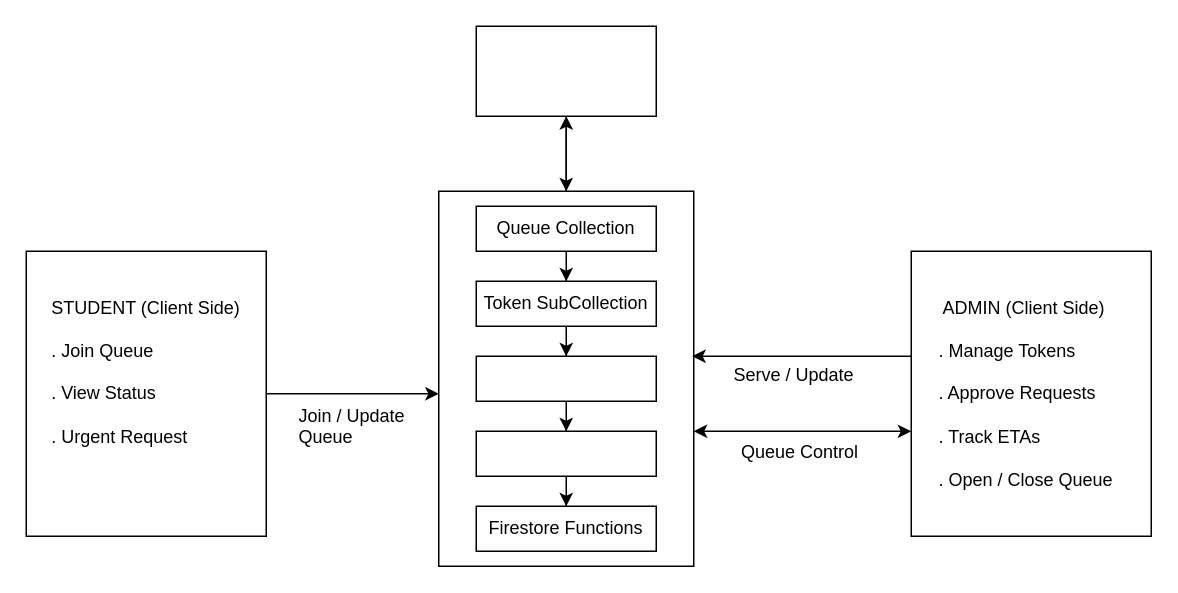
This 1178x593 diagram has some shape labels left out. Here are the shapes that lost their labels. From the top down, the box of each, then its label:
(475, 25, 656, 116): Firebase
(475, 355, 656, 401): Live Sync Data
(475, 430, 656, 476): Realtime Updates
